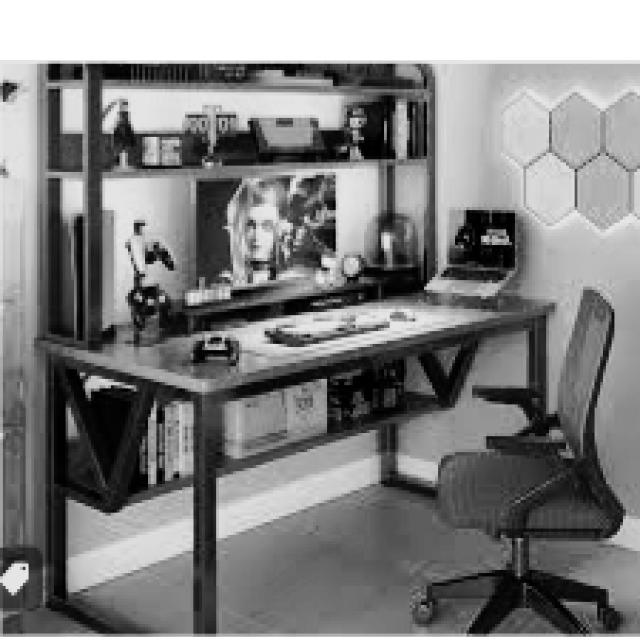book: (410, 284, 623, 634)
table: (34, 286, 558, 630)
